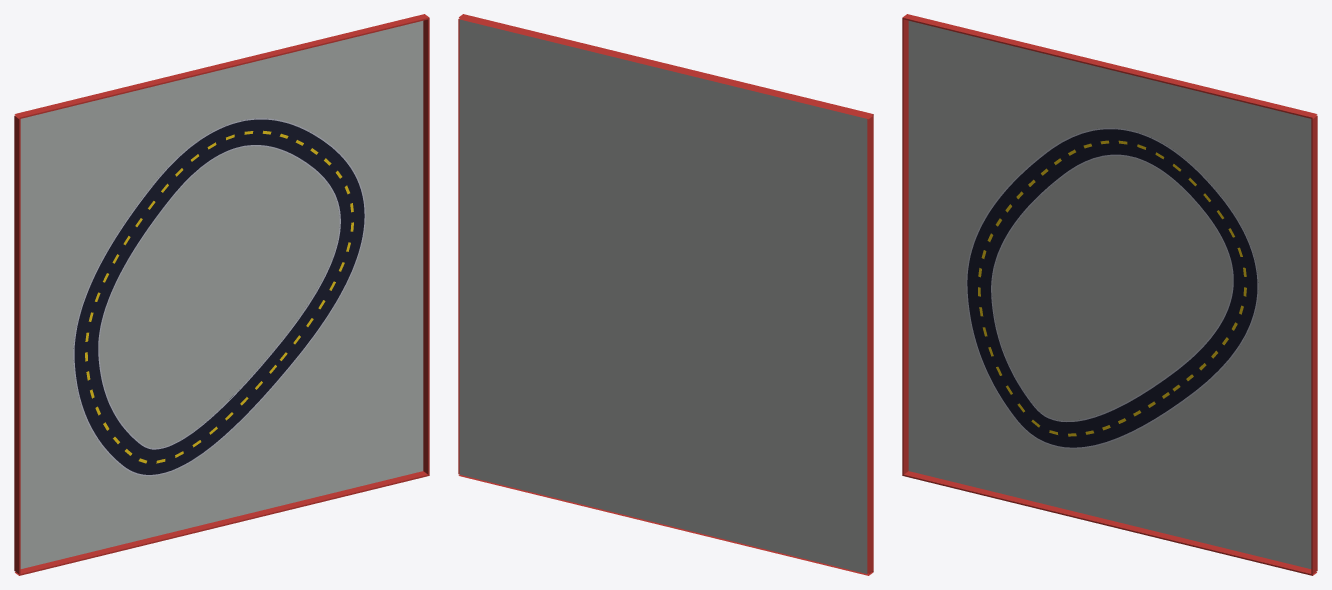
The model's file is track.obj.
The picture shows the model from 3 angles, left to right: view 1: azimuth 30°, elevation 25°; view 2: azimuth 150°, elevation 25°; view 3: azimuth 330°, elevation 25°; orthographic projection.
Size of the model in its own units: 14.3 by 15.26 by 0.3.
Materials: 5 (5 with a texture image).
